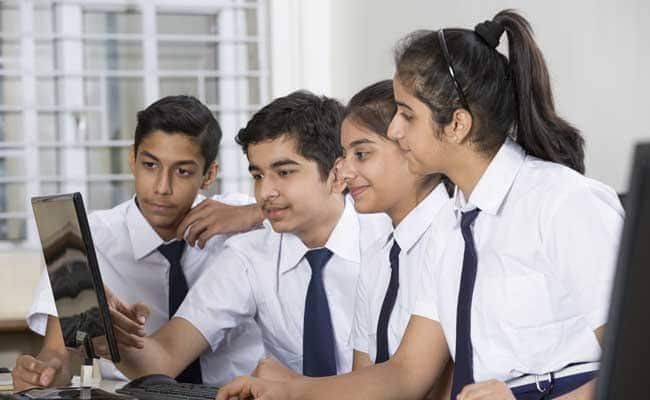Person: (387, 8, 626, 400), (12, 96, 224, 400), (232, 87, 348, 400), (340, 79, 452, 400)
